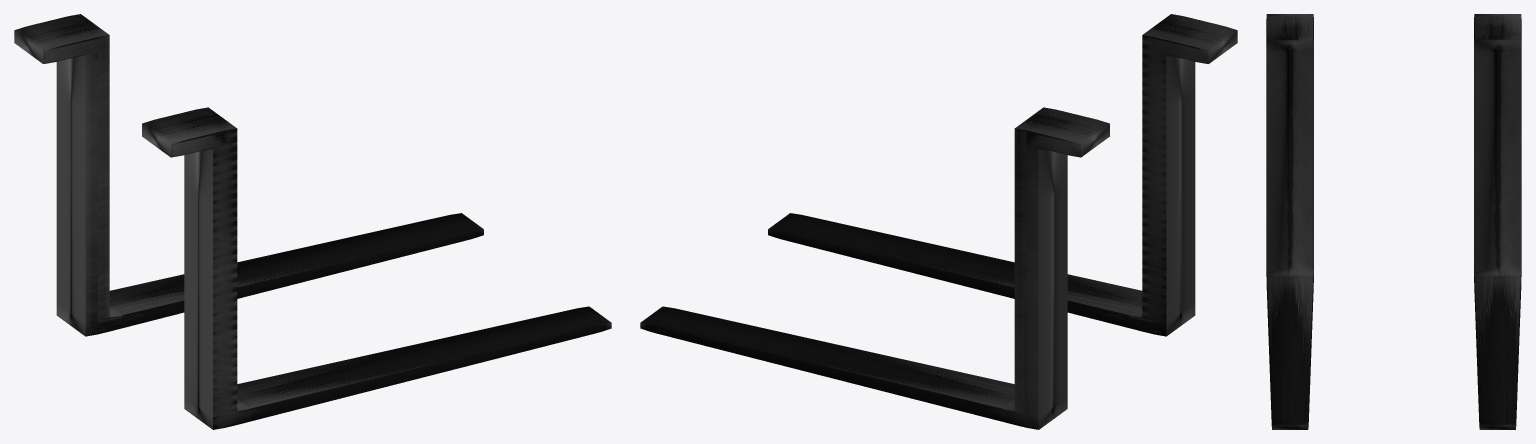
File: editedFork.fbx
3 renders of one model, left to right at view 1: azimuth 30°, elevation 25°; view 2: azimuth 150°, elevation 25°; view 3: azimuth 270°, elevation 25°, orthographic. The views are drawn at different scales.
Visible parts, largest first — view 1: Cube.006, Cube.001, Cube.002; view 2: Cube.006, Cube.002, Cube.001; view 3: Cube.006, Cube.001, Cube.002.
Boxes of the visible parts, x1=… form: Cube.006: x1=14, y1=14, x2=248, y2=429; Cube.001: x1=237, y1=306, x2=611, y2=422; Cube.002: x1=109, y1=213, x2=483, y2=328; Cube.006: x1=1003, y1=14, x2=1237, y2=429; Cube.002: x1=640, y1=306, x2=1014, y2=421; Cube.001: x1=768, y1=213, x2=1142, y2=328; Cube.006: x1=1266, y1=14, x2=1521, y2=282; Cube.001: x1=1266, y1=275, x2=1313, y2=429; Cube.002: x1=1474, y1=275, x2=1521, y2=429.
Bounding box in the file's own units: 47.63 × 30.48 × 29.12.
